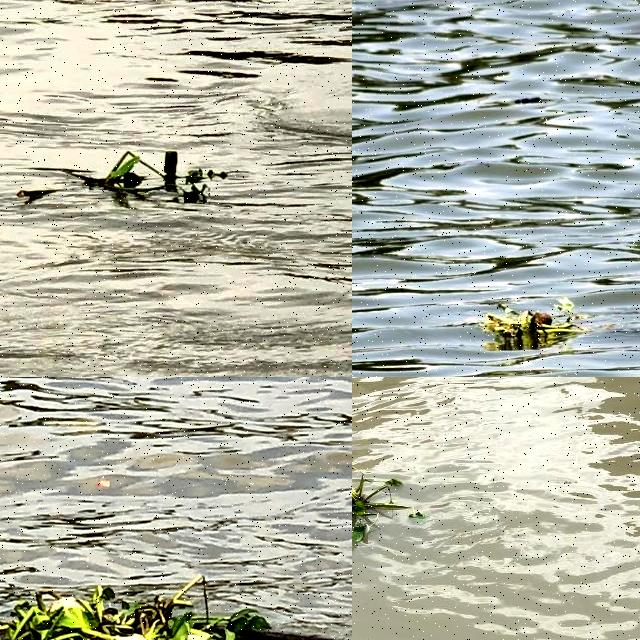water-hyacinth: (1, 572, 226, 640), (53, 143, 239, 207), (353, 464, 446, 566), (478, 300, 584, 348)
